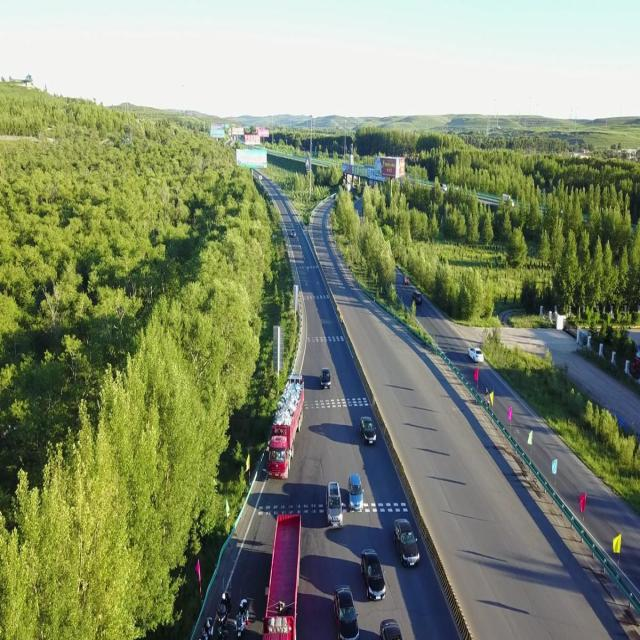car: (333, 584, 359, 639), (360, 548, 386, 601), (393, 517, 420, 567), (325, 481, 344, 529), (348, 473, 363, 511), (379, 618, 403, 639), (359, 416, 376, 445), (319, 367, 331, 389), (468, 346, 483, 363), (412, 290, 422, 304)
person: (484, 386, 490, 408)
tree: (0, 83, 278, 637), (330, 126, 640, 330)
